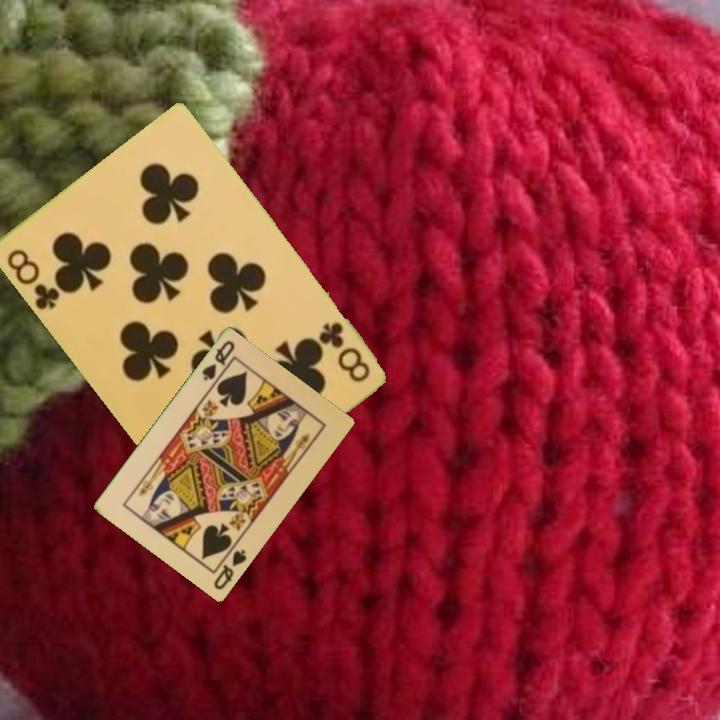8c: (2, 245, 62, 313), (314, 318, 373, 386)
Qs: (210, 546, 250, 593), (198, 337, 238, 384)
